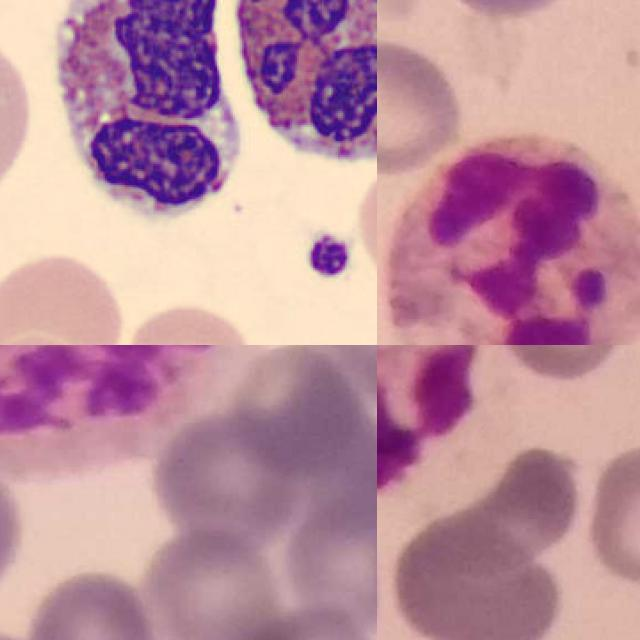Eosinophil: (34, 0, 256, 237), (219, 0, 377, 181)
Neutrophil: (382, 136, 640, 345), (0, 345, 253, 479), (377, 345, 492, 487)
Platelets: (301, 229, 356, 282)
RBC: (0, 246, 128, 345), (117, 298, 259, 345), (350, 132, 377, 312)
